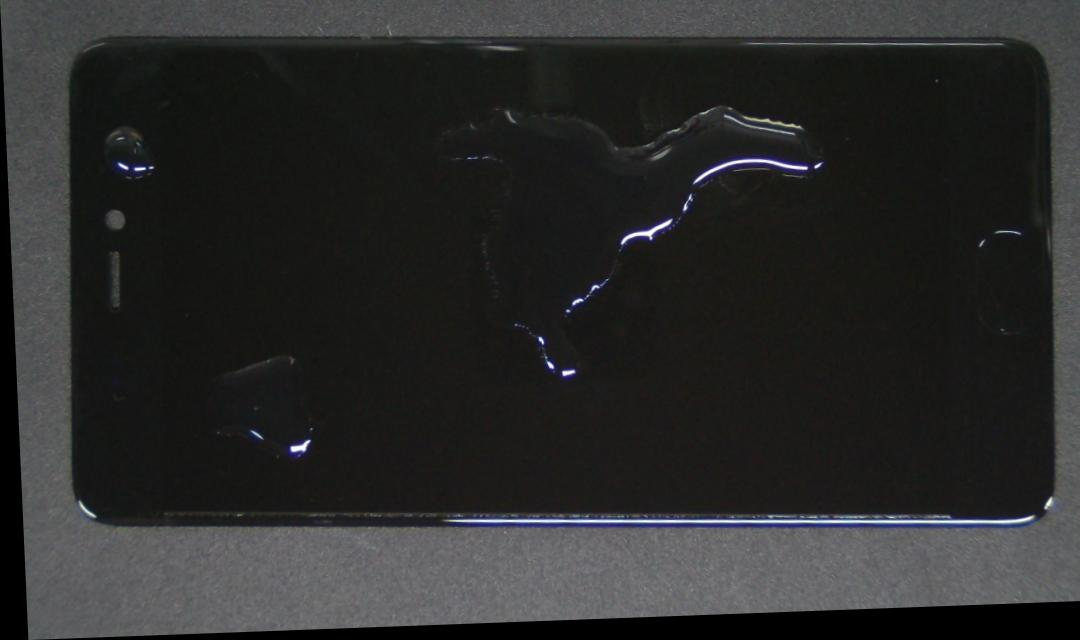oil: (386, 69, 839, 415), (162, 340, 338, 489), (85, 100, 172, 192)
